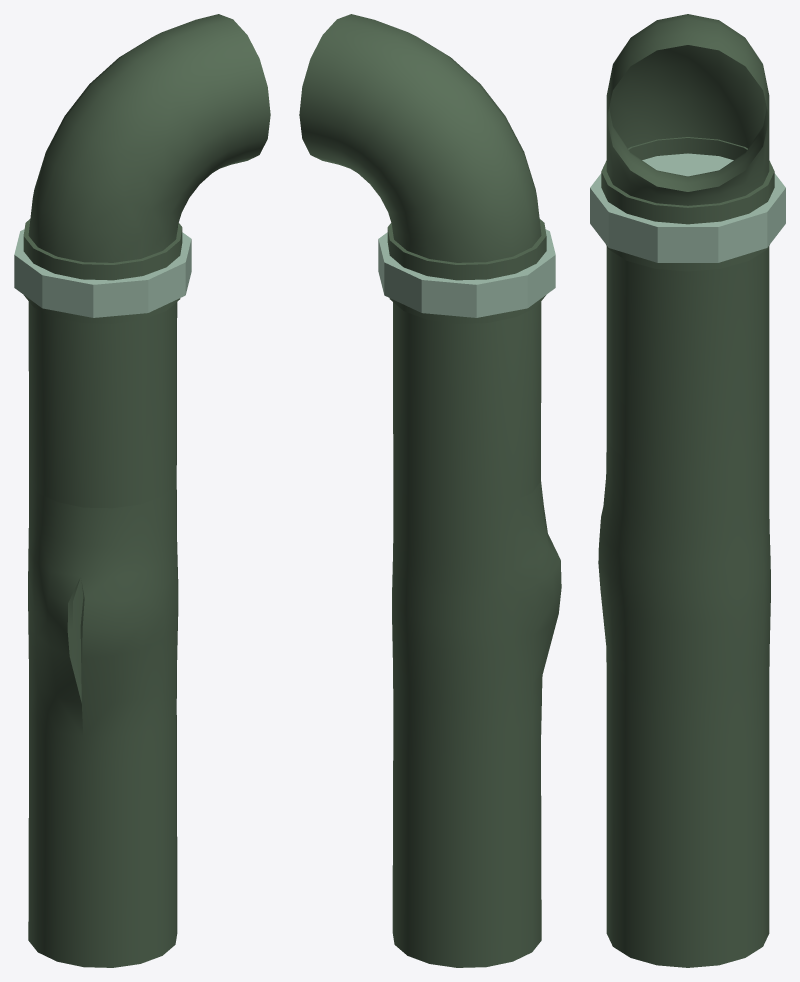
Rendered from PipeComplexLarge_A1_16B.fbx.
The picture shows the model from 3 angles, left to right: view 1: azimuth 30°, elevation 25°; view 2: azimuth 150°, elevation 25°; view 3: azimuth 270°, elevation 25°; orthographic projection. The views are drawn at different scales.
Parts seen in each view (by area): view 1: PipeComplexLarge_A1_16B.001; view 2: PipeComplexLarge_A1_16B.001; view 3: PipeComplexLarge_A1_16B.001.
Part boxes in pixels (x1,y1,x2,y2): PipeComplexLarge_A1_16B.001: [14, 14, 270, 967]; PipeComplexLarge_A1_16B.001: [299, 14, 561, 967]; PipeComplexLarge_A1_16B.001: [590, 14, 785, 967].
Size of the model in its own units: 0.3147 by 1.3 by 0.2411.
